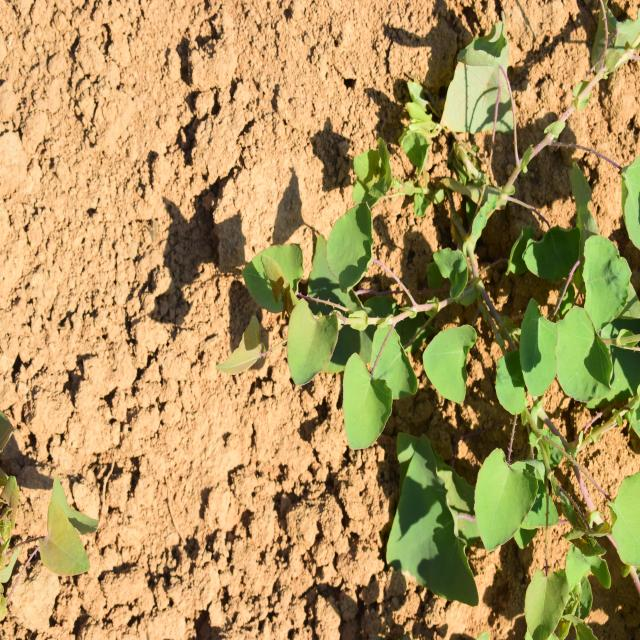Asiatic_Smartweed: (242, 201, 427, 451), (474, 425, 634, 632), (494, 187, 634, 419), (399, 435, 470, 621)
